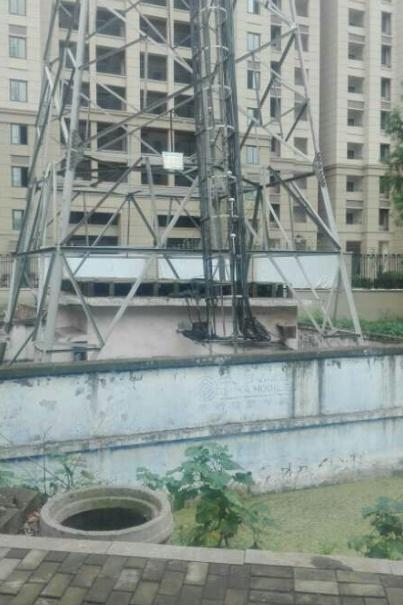wellcover: (34, 474, 169, 544)
